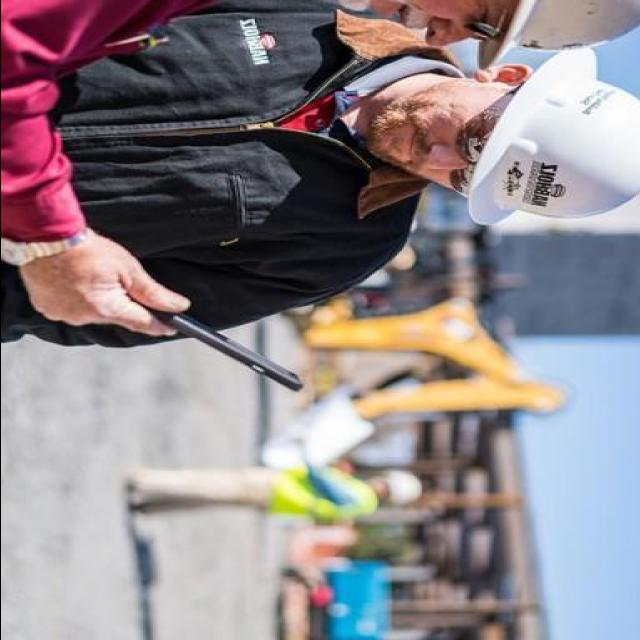helmet: (460, 46, 640, 243)
